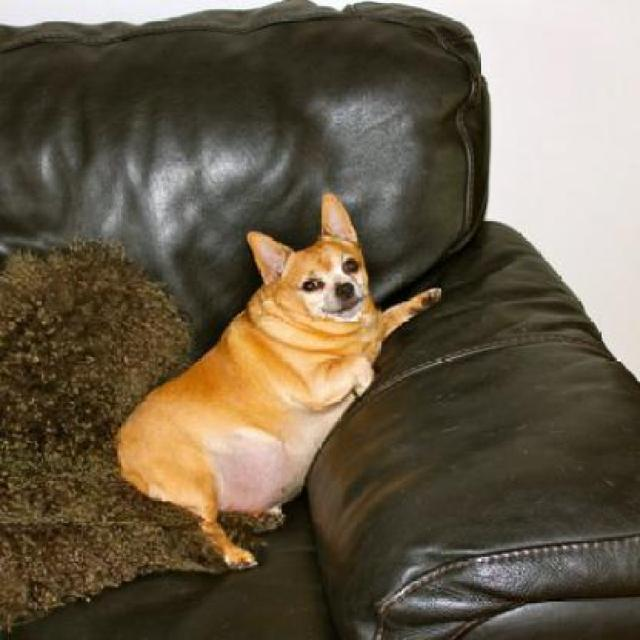Dog: (112, 184, 443, 576)
